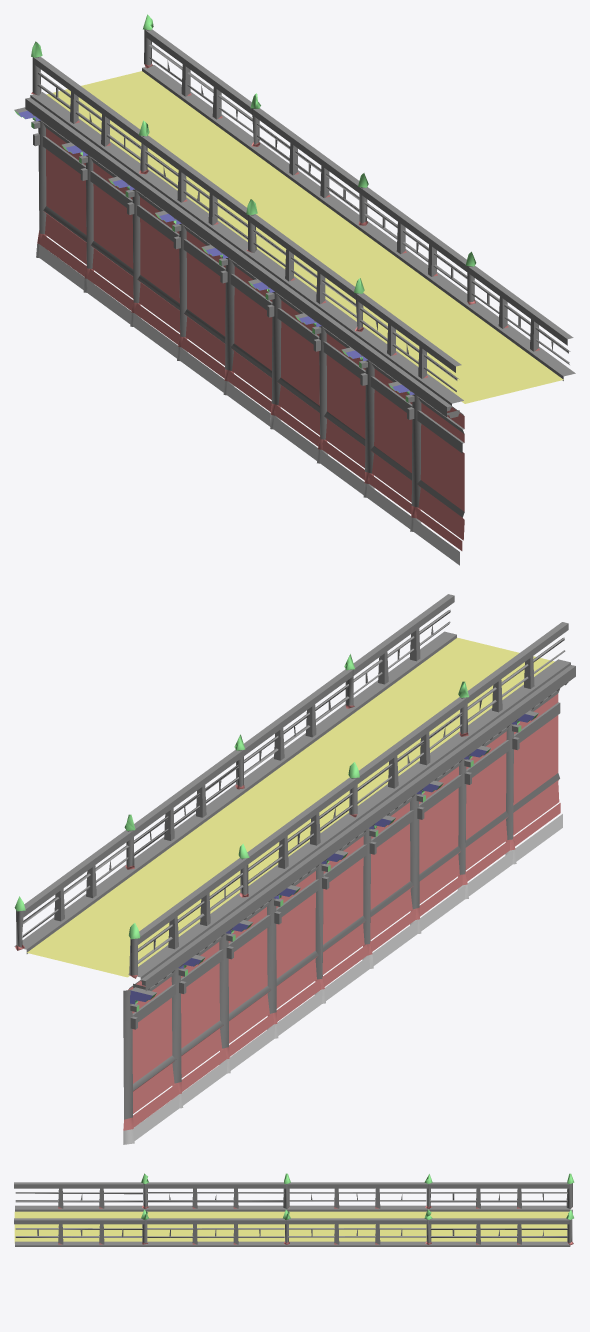
The model's file is SM_ENV_LKNVLD_WallSet_Straight_Lod3.gltf.
3 renders of one model, top to bottom at view 1: azimuth 30°, elevation 25°; view 2: azimuth 150°, elevation 25°; view 3: azimuth 270°, elevation 25°, orthographic. The views are drawn at different scales.
Parts seen in each view (by area): view 1: SM_ENV_LKNVLD_WallSet_Straight_Lod3; view 2: SM_ENV_LKNVLD_WallSet_Straight_Lod3; view 3: SM_ENV_LKNVLD_WallSet_Straight_Lod3.
Boxes of the visible parts, bbox=[...] form: SM_ENV_LKNVLD_WallSet_Straight_Lod3: bbox=[14, 14, 575, 565]; SM_ENV_LKNVLD_WallSet_Straight_Lod3: bbox=[14, 594, 575, 1144]; SM_ENV_LKNVLD_WallSet_Straight_Lod3: bbox=[14, 1173, 574, 1246].
Size of the model in its own units: 5.58 by 8.33 by 29.87.
